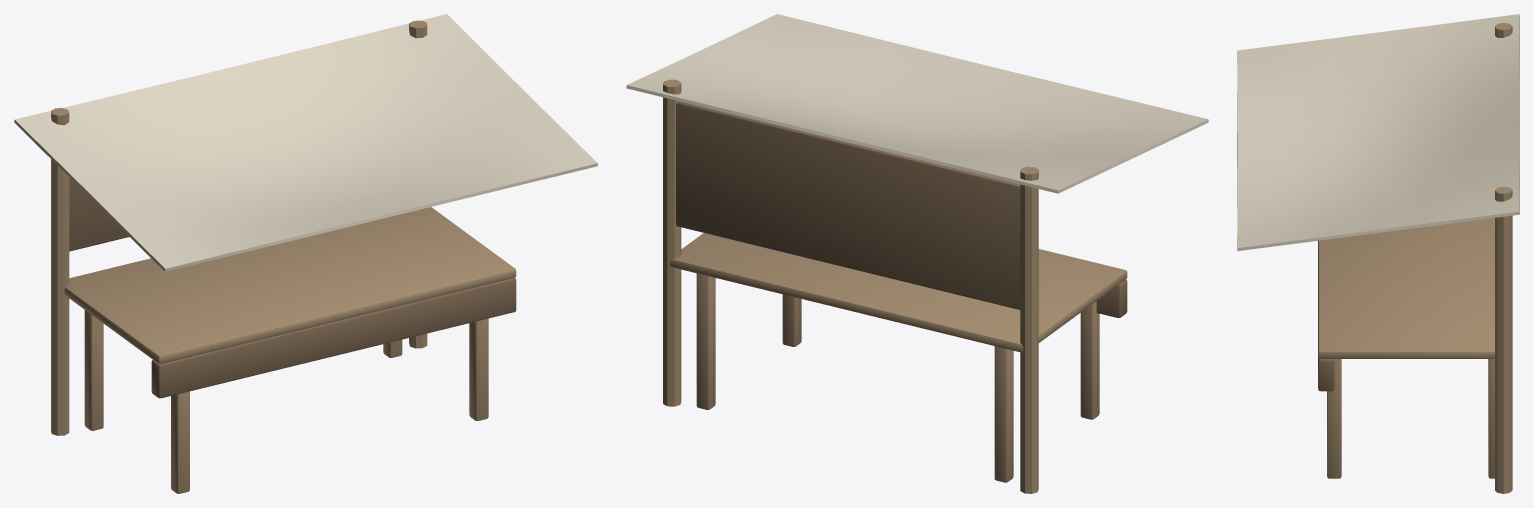
Rendered from stall_market.glb.
The picture shows the model from 3 angles, left to right: view 1: azimuth 30°, elevation 25°; view 2: azimuth 150°, elevation 25°; view 3: azimuth 270°, elevation 25°; orthographic projection. The views are drawn at different scales.
Parts seen in each view (by area): view 1: stall_market; view 2: stall_market; view 3: stall_market.
Part boxes in pixels (box(x1,y1,x2,y2)): stall_market: box(14, 14, 597, 493); stall_market: box(626, 14, 1208, 493); stall_market: box(1237, 14, 1519, 493).
Size of the model in its own units: 2.9 by 2.05 by 1.75.
